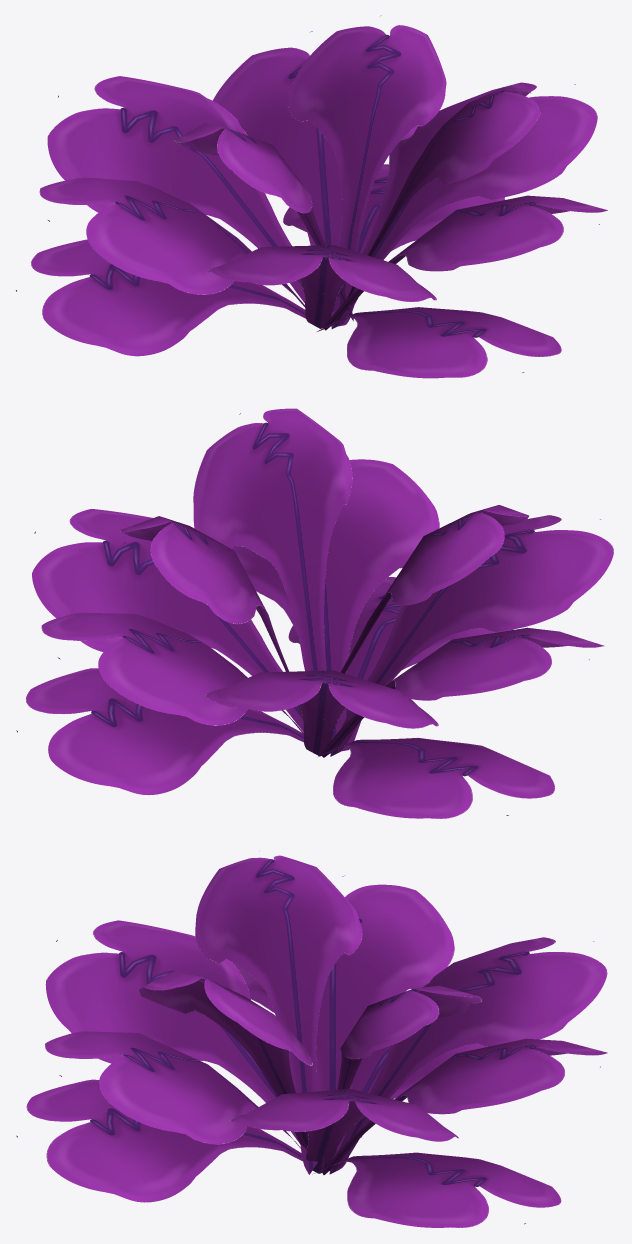
File: Bush2 1.fbx
3 renders of one model, top to bottom at view 1: azimuth 30°, elevation 25°; view 2: azimuth 150°, elevation 25°; view 3: azimuth 270°, elevation 25°, orthographic. The views are drawn at different scales.
Parts seen in each view (by area): view 1: Circle.179; view 2: Circle.179; view 3: Circle.179.
Boxes of the visible parts, bbox=[...] form: Circle.179: bbox=[16, 15, 607, 378]; Circle.179: bbox=[16, 408, 613, 818]; Circle.179: bbox=[16, 855, 607, 1227].
Size of the model in its own units: 3.2 by 1.46 by 3.11.
Materials: 1 (1 with a texture image).
